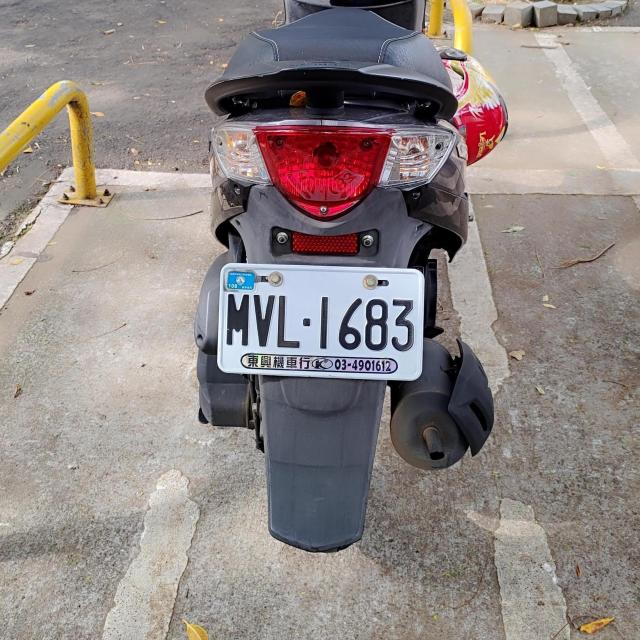W: (218, 266, 422, 376)
